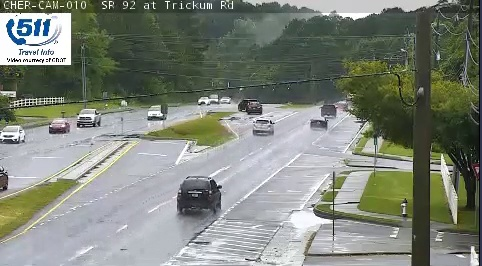car: (176, 176, 220, 209), (252, 118, 273, 133), (310, 116, 327, 129)
